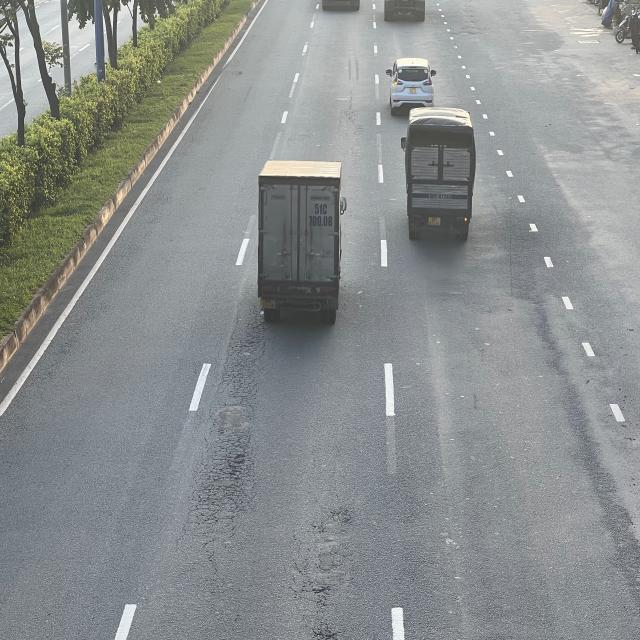car: (387, 56, 438, 112)
truck: (256, 158, 346, 322), (400, 106, 476, 238)
